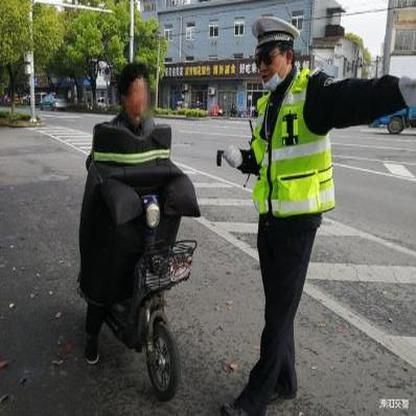target: (77, 62, 201, 403)
